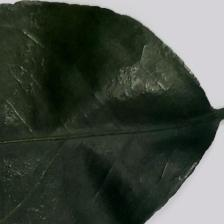healthy: (0, 35, 218, 220)
